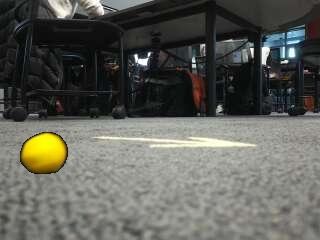lemon: (20, 133, 66, 173)
